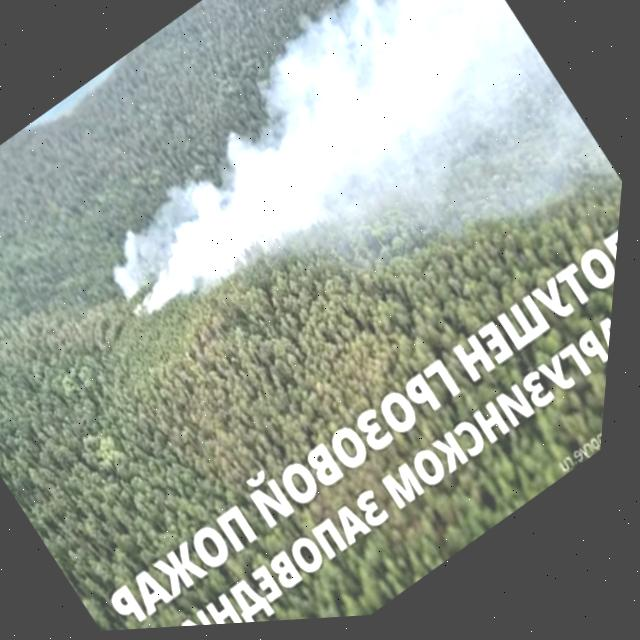Smoke: (55, 0, 549, 348)
